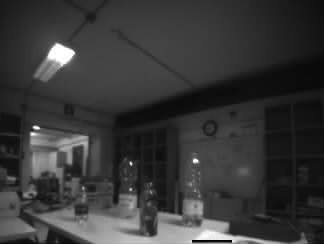Bottle: (181, 152, 202, 224), (119, 155, 137, 216), (142, 183, 157, 236), (75, 183, 87, 218)
